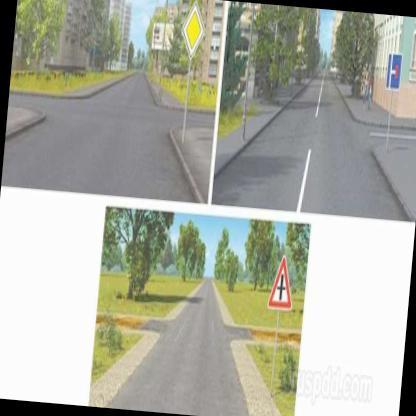road_sign: (268, 255, 291, 309), (182, 3, 204, 57), (386, 53, 401, 89)
